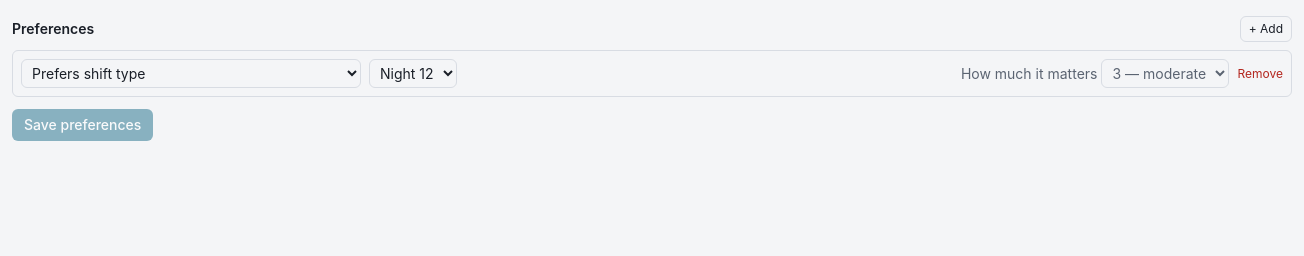
Test case: a nurse’s preferences on the roster › will not let a nurse both prefer and avoid nights
The image size is (1304, 256).
Click the button "+ Add": x=1266, y=29 [1240,16,1292,42]
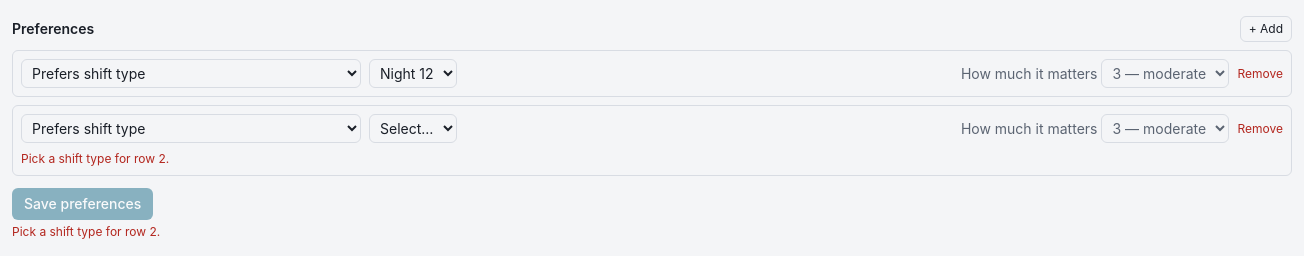
Select "Avoids shift type" in the 2nd dropdown named "Preference kind": x=191, y=128 [21,114,361,143]
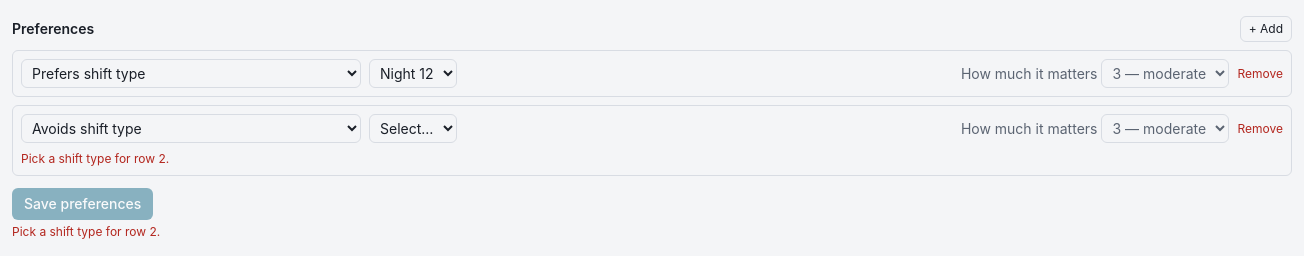
Select "Night 12" in the 2nd dropdown named "Shift type": x=413, y=128 [369,114,457,143]
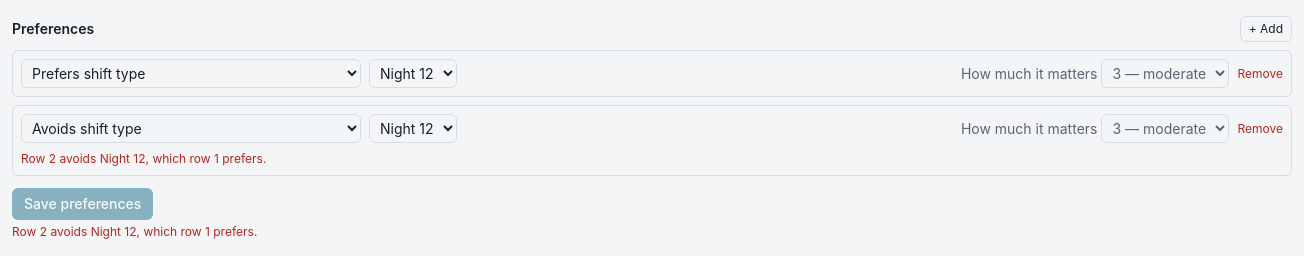
Expected: the button "Save preferences" is disabled, [12,188,153,220]
Expected: the 1st text "Row 2 avoids Night 12, which row 1 prefers." is shown, [21,151,266,166]
